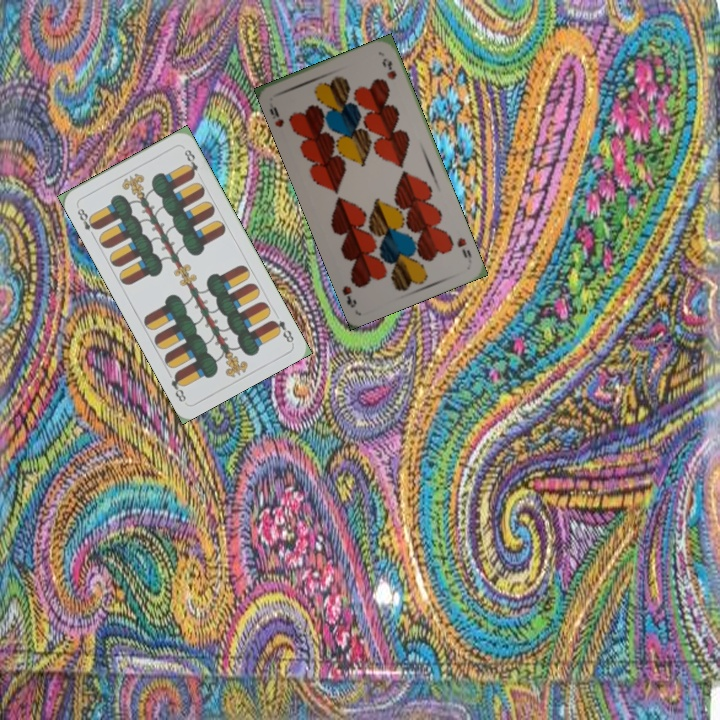E8: (73, 202, 101, 240), (267, 316, 296, 345)
H9: (265, 103, 287, 130), (453, 233, 474, 261)
